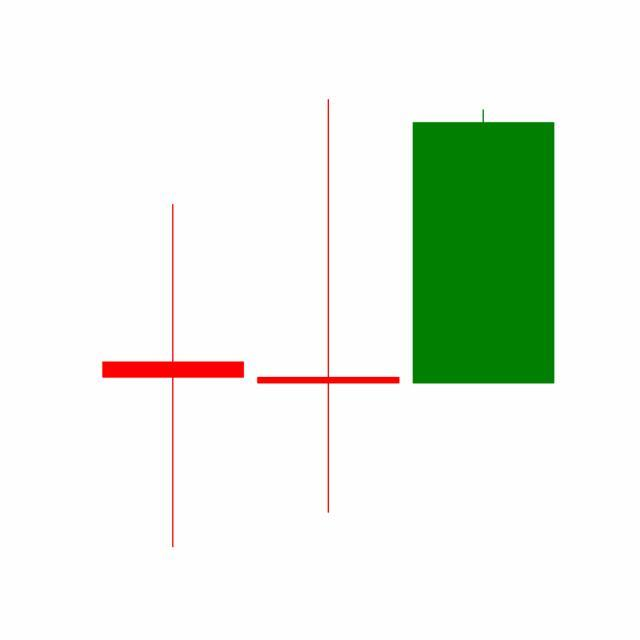Marubozu: (406, 106, 562, 387)
